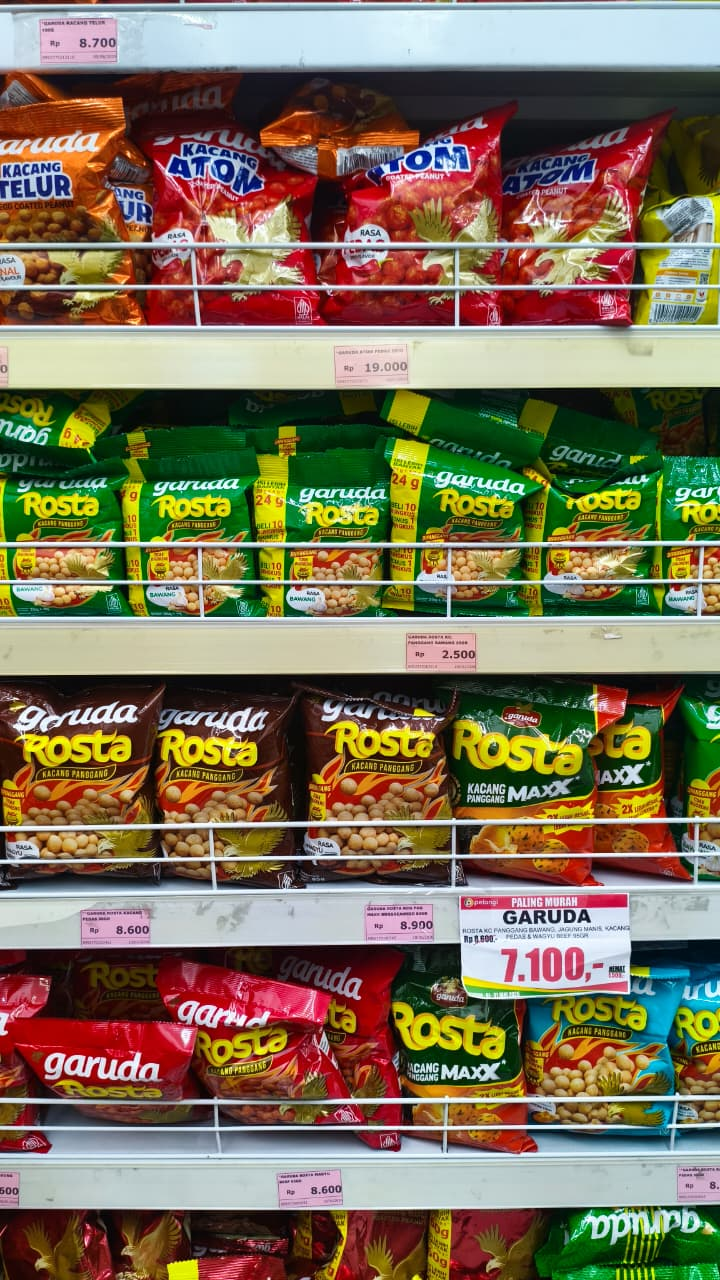Rosta: (11, 716, 151, 853), (451, 712, 591, 849), (127, 483, 267, 620), (529, 989, 669, 1126)
